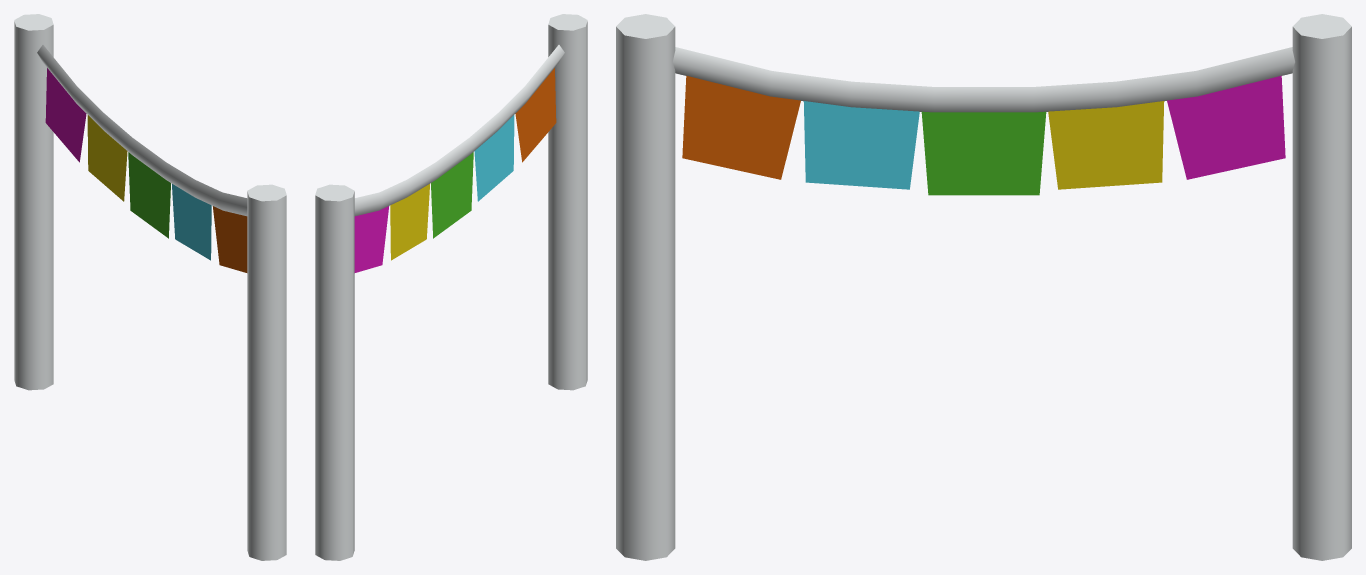
The model's file is flags02_s02.FBX.
3 renders of one model, left to right at view 1: azimuth 30°, elevation 25°; view 2: azimuth 150°, elevation 25°; view 3: azimuth 270°, elevation 25°, orthographic. The views are drawn at different scales.
Parts seen in each view (by area): view 1: flags02_s02; view 2: flags02_s02; view 3: flags02_s02.
Part boxes in pixels (bbox=[...]): flags02_s02: bbox=[14, 14, 286, 560]; flags02_s02: bbox=[315, 14, 587, 560]; flags02_s02: bbox=[616, 14, 1351, 560].
Bounding box in the file's own units: 35 × 434 × 339.
Materials: 1 (1 with a texture image).
